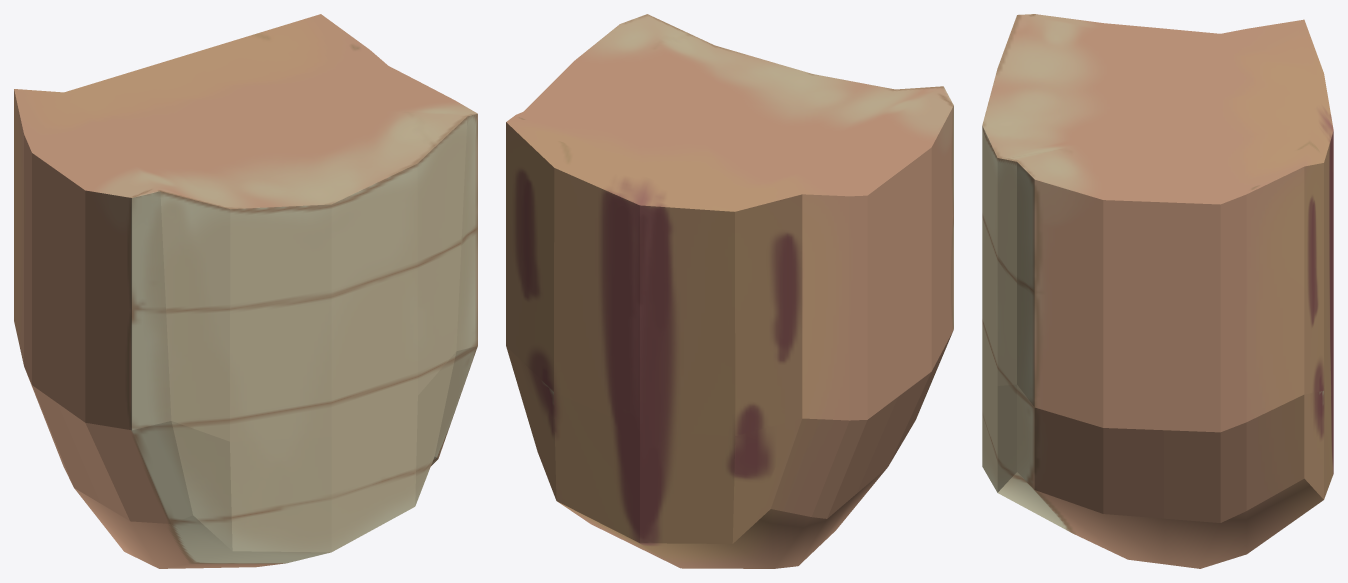
File: Snake_Tail.fbx
3 views of the same model, side by side, from view 1: azimuth 30°, elevation 25°; view 2: azimuth 150°, elevation 25°; view 3: azimuth 270°, elevation 25° (orthographic). The views are drawn at different scales.
Visible parts, largest first — view 1: polySurface3; view 2: polySurface3; view 3: polySurface3.
Boxes of the visible parts, bbox=[...] form: polySurface3: bbox=[14, 14, 477, 568]; polySurface3: bbox=[506, 14, 953, 568]; polySurface3: bbox=[982, 14, 1333, 568].
Size of the model in its own units: 0.1608 by 0.1933 by 0.1349.
